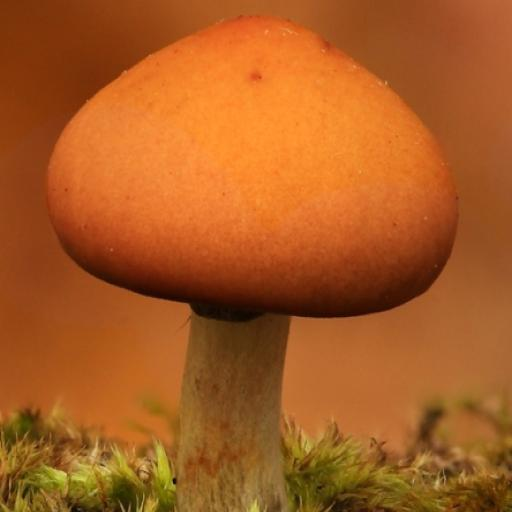mushroom: (43, 4, 458, 430)
